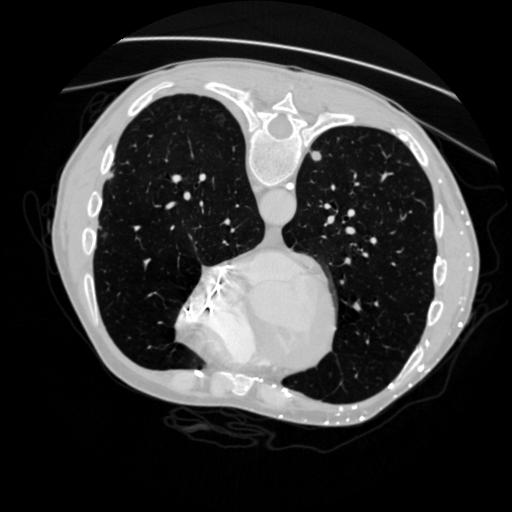nodule: (306, 147, 324, 165)
